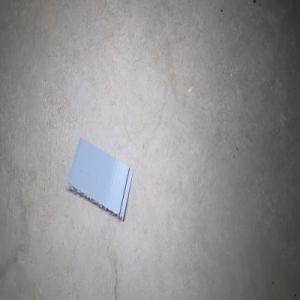PlasticPart: (64, 136, 133, 222)
